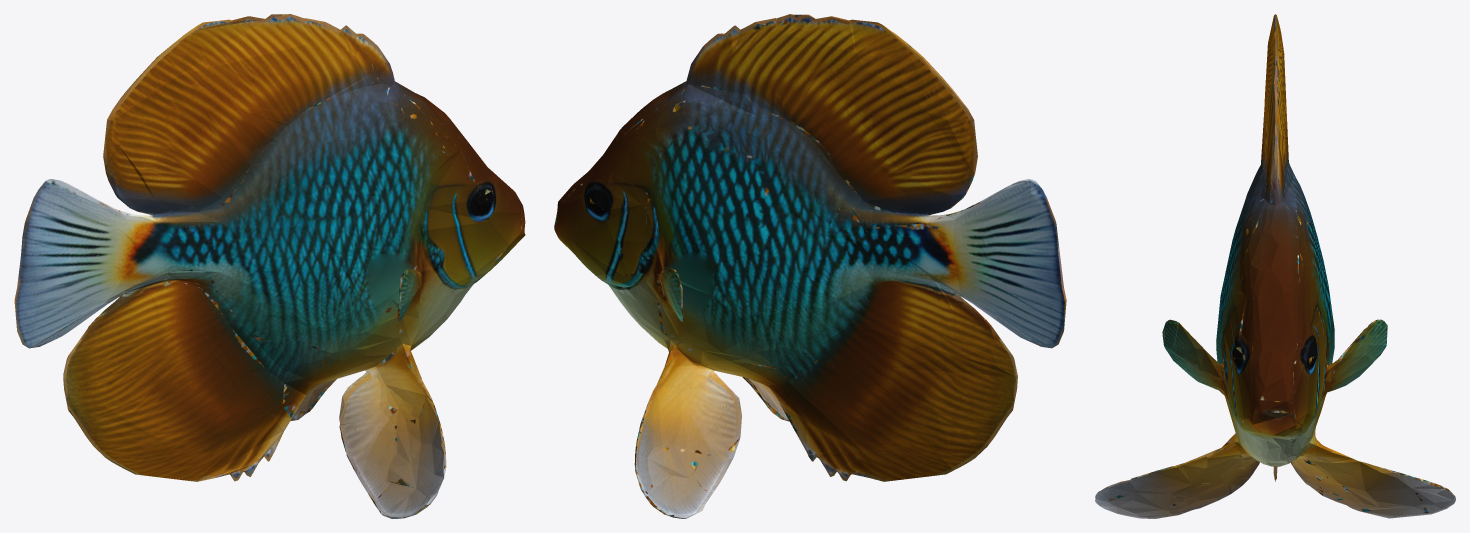
Rendered from fish_0116_smpl23_resized.glb.
3 views of the same model, side by side, from view 1: azimuth 30°, elevation 25°; view 2: azimuth 150°, elevation 25°; view 3: azimuth 270°, elevation 25° (orthographic). The views are drawn at different scales.
Visible parts, largest first — view 1: world; view 2: world; view 3: world.
Part boxes in pixels (x1=…): world: x1=14, y1=14, x2=525, y2=518; world: x1=554, y1=14, x2=1066, y2=518; world: x1=1095, y1=14, x2=1455, y2=518.
Bounding box in the file's own units: 1.99 × 1.76 × 1.28.
1 material, 1 textured.
